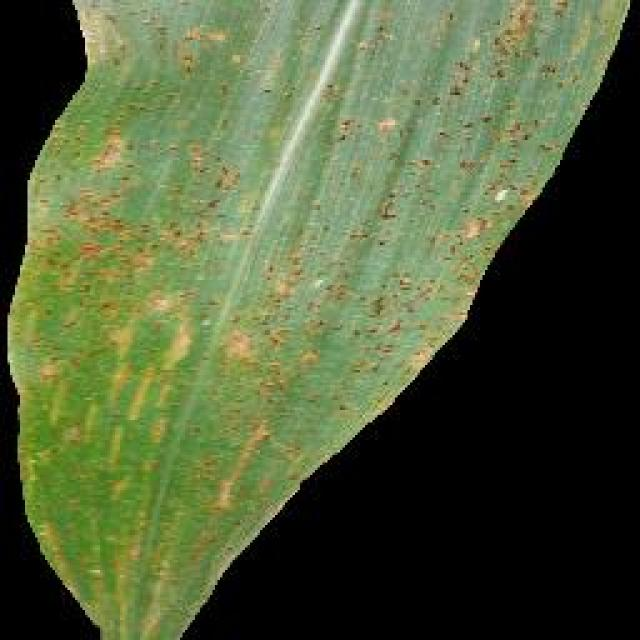Corn Common Rust: (0, 0, 355, 563)
